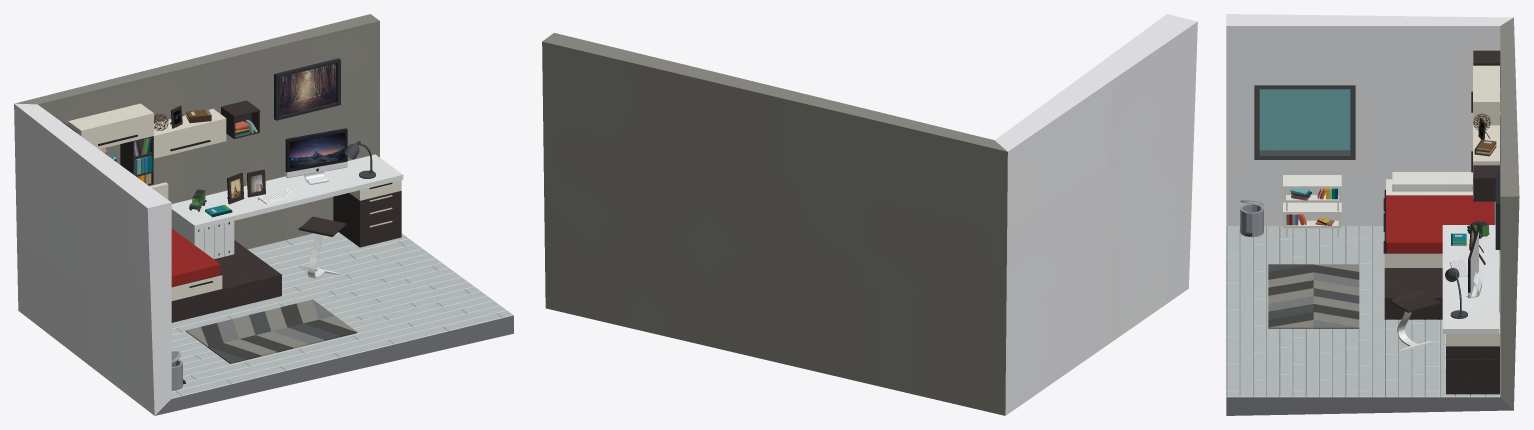
3 renders of one model, left to right at view 1: azimuth 30°, elevation 25°; view 2: azimuth 150°, elevation 25°; view 3: azimuth 270°, elevation 25°, orthographic. The views are drawn at different scales.
Parts seen in each view (by area): view 1: Plane, Plane.031, Cube.017, Cube.008, Cube.005, Tumblr autumn forest, Cube, Plane.003, Plane.004, Plane.010, Cube.016, Plane.011 (+25 smaller); view 2: Plane; view 3: Plane, Plane.031, Cube.016, Cube.017, Cube.082, Cube.008, Cube.081, Plane.003, Plane.010, Plane.017, Plane.008, Plane.004 (+33 smaller).
Part boxes in pixels (x1,y1,x2,y2): Plane: (14, 14, 513, 415); Plane.031: (185, 299, 357, 363); Cube.017: (171, 154, 403, 247); Cube.008: (171, 240, 281, 322); Cube.005: (68, 103, 153, 149); Tumblr autumn forest: (279, 63, 335, 115); Cube: (153, 108, 226, 158); Plane.003: (427, 291, 513, 328); Plane.004: (372, 305, 458, 341); Plane.010: (395, 268, 480, 304); Cube.016: (171, 228, 220, 286); Plane.011: (340, 281, 426, 317); Plane: (542, 14, 1197, 415); Plane: (1226, 14, 1519, 415); Plane.031: (1268, 264, 1359, 328); Cube.016: (1386, 179, 1494, 253); Cube.017: (1442, 225, 1499, 333); Cube.082: (1283, 175, 1341, 236); Cube.008: (1384, 268, 1499, 319); Cube.081: (1254, 85, 1355, 159); Plane.003: (1226, 369, 1292, 397); Plane.010: (1292, 369, 1358, 397); Plane.017: (1358, 369, 1424, 397); Plane.008: (1226, 234, 1292, 261); Plane.004: (1226, 342, 1292, 369).
Size of the model in its own units: 13.05 by 7.31 by 8.85.
Materials: 15 (15 with a texture image).
